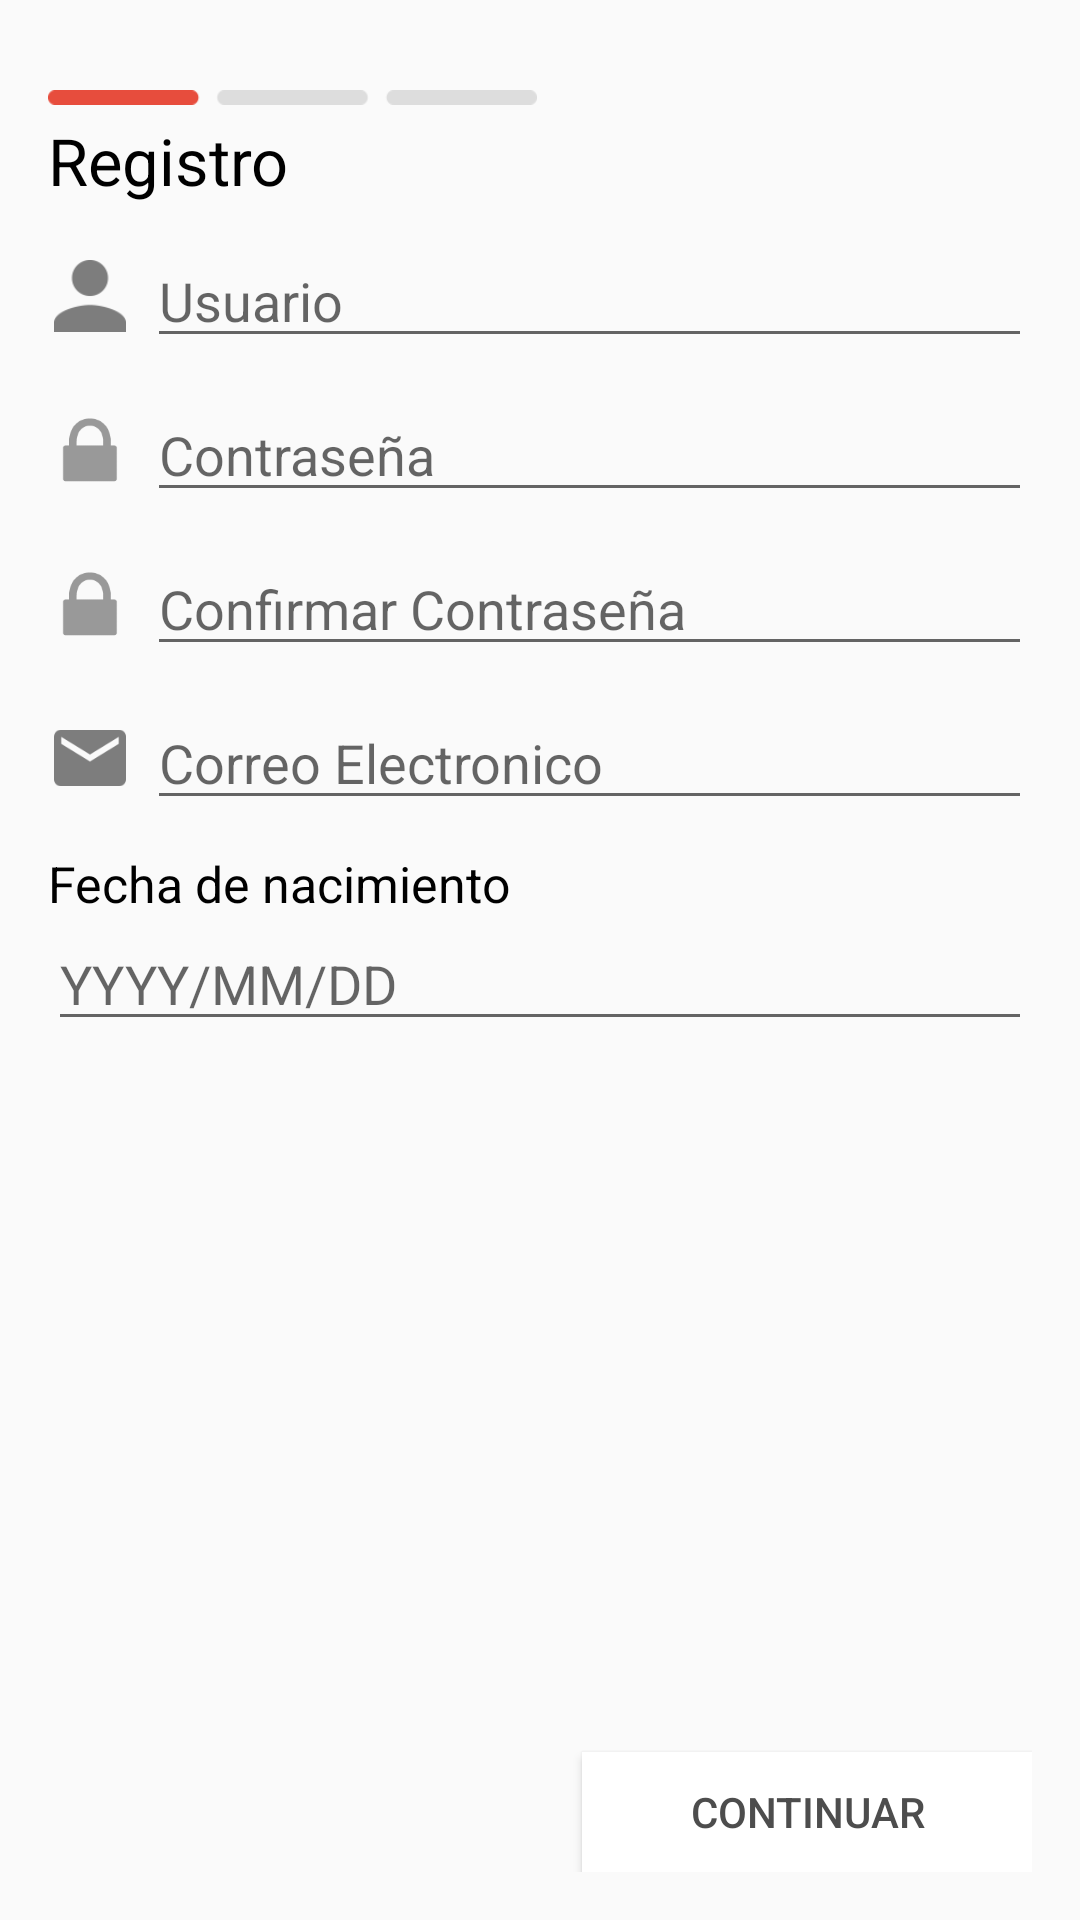

Named icons in this screenshot (1080px x 1920px) and their bounding boxes, (x1, y1, x2, y2):
iconocontrasena: (63, 418, 117, 482), (63, 572, 117, 636)
iconocorreo: (54, 730, 126, 786)
iconopersona: (54, 260, 126, 332)
